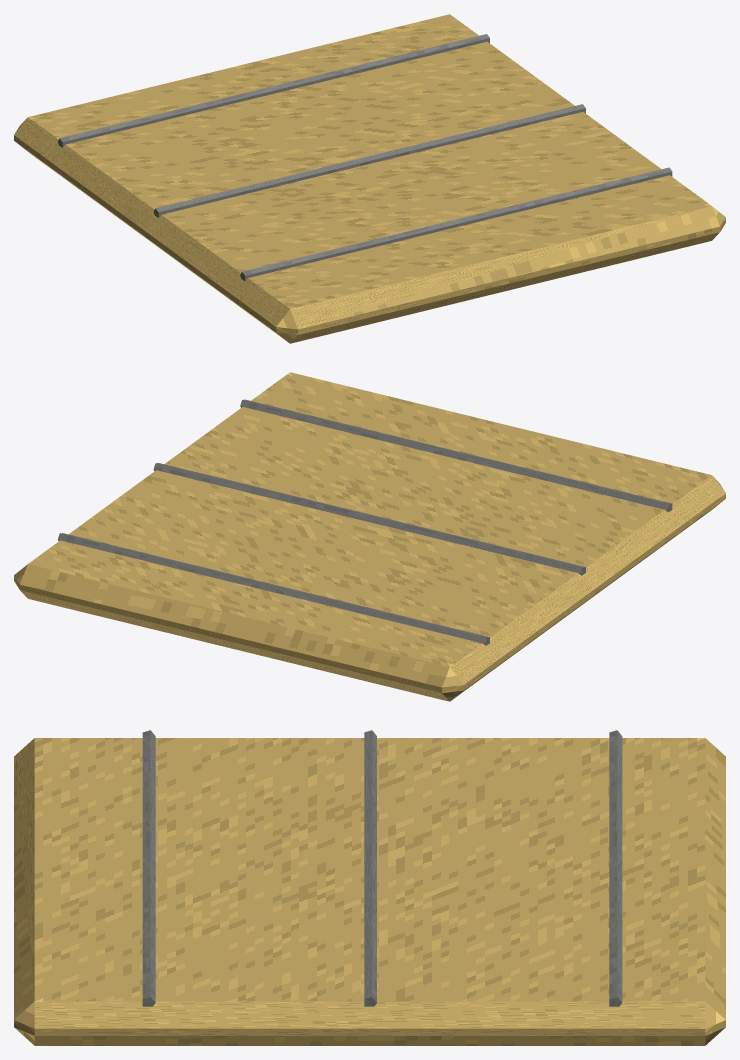
Rendered from emer_blanket.glb.
The picture shows the model from 3 angles, top to bottom: view 1: azimuth 30°, elevation 25°; view 2: azimuth 150°, elevation 25°; view 3: azimuth 270°, elevation 25°; orthographic projection. The views are drawn at different scales.
Parts seen in each view (by area): view 1: block_folded textile, block_sewn fold 0 (×3); view 2: block_folded textile, block_sewn fold 0 (×3); view 3: block_folded textile, block_sewn fold 0 (×3).
Part boxes in pixels (x1,y1,x2,y2): block_folded textile: [14, 14, 725, 343]; block_sewn fold 0 (×3): [57, 34, 672, 281]; block_folded textile: [14, 372, 725, 701]; block_sewn fold 0 (×3): [57, 399, 672, 645]; block_folded textile: [14, 738, 725, 1045]; block_sewn fold 0 (×3): [142, 730, 622, 1006].
Size of the model in its own units: 0.1773 by 0.0149 by 0.19.
1 material, 1 textured.
